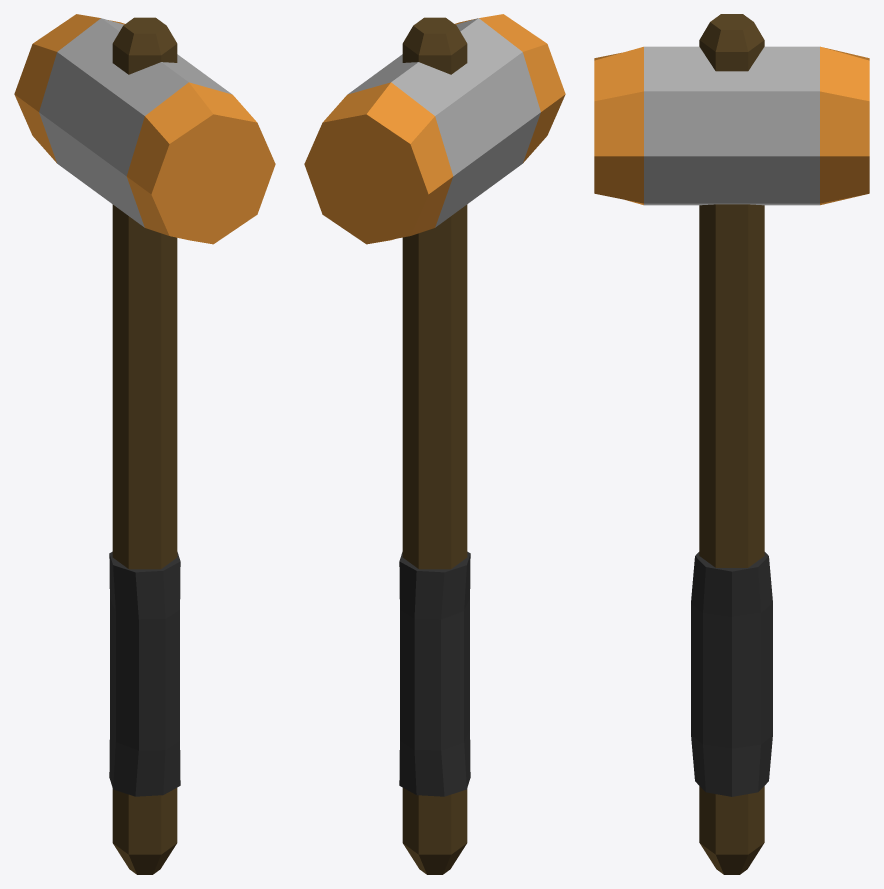
File: HammerForBox.fbx
3 views of the same model, side by side, from view 1: azimuth 30°, elevation 25°; view 2: azimuth 150°, elevation 25°; view 3: azimuth 270°, elevation 25° (orthographic).
Parts seen in each view (by area): view 1: Cylinder.001, Cylinder, Cylinder.002; view 2: Cylinder.001, Cylinder, Cylinder.002; view 3: Cylinder.001, Cylinder, Cylinder.002.
Part boxes in pixels (x1=…): Cylinder.001: x1=14, y1=14, x2=275, y2=244; Cylinder: x1=112, y1=17, x2=177, y2=874; Cylinder.002: x1=109, y1=551, x2=180, y2=796; Cylinder.001: x1=304, y1=14, x2=565, y2=244; Cylinder: x1=402, y1=17, x2=467, y2=874; Cylinder.002: x1=399, y1=551, x2=470, y2=796; Cylinder.001: x1=594, y1=46, x2=869, y2=205; Cylinder: x1=699, y1=14, x2=764, y2=874; Cylinder.002: x1=691, y1=552, x2=772, y2=796.
Bounding box in the file's own units: 101 × 654 × 193.
1 material, 1 textured.
